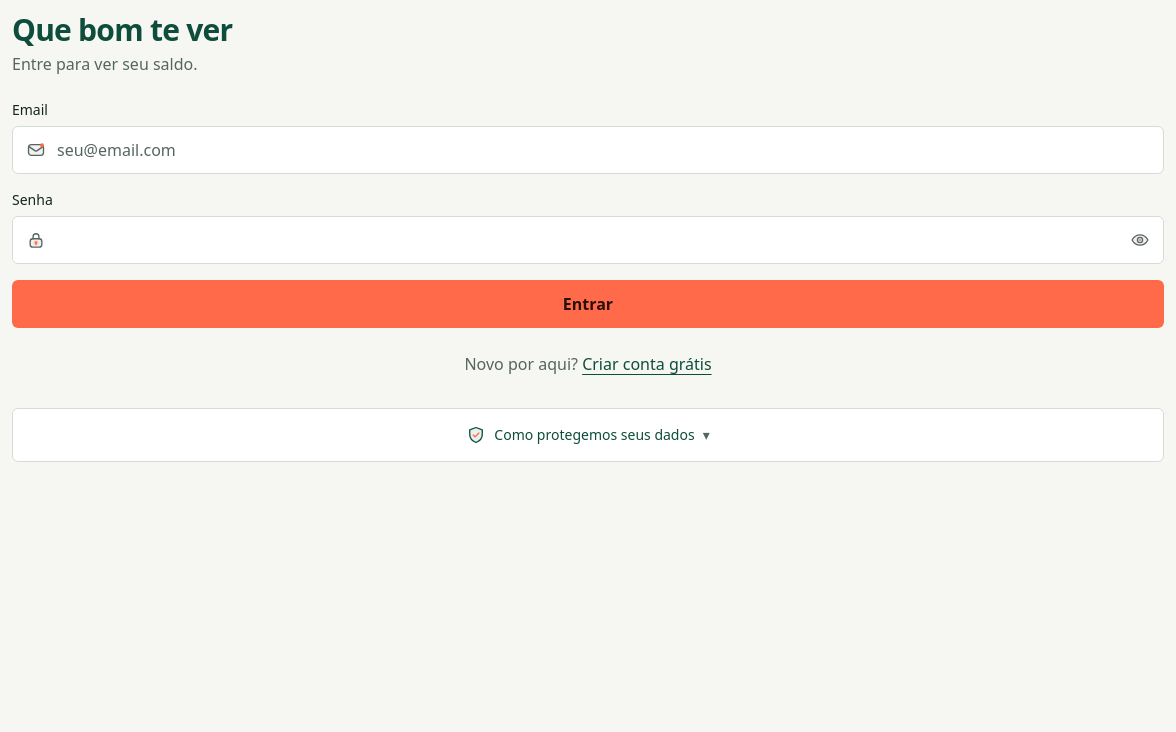
Test: login em duas etapas › desafio vencido (401 sem ser código errado) volta para a senha
The width and height of the screenshot is (1176, 732).
Step 1. Type "ana@exemplo.com" into the field labelled "Email" → (588, 150), box [12,126,1164,174]
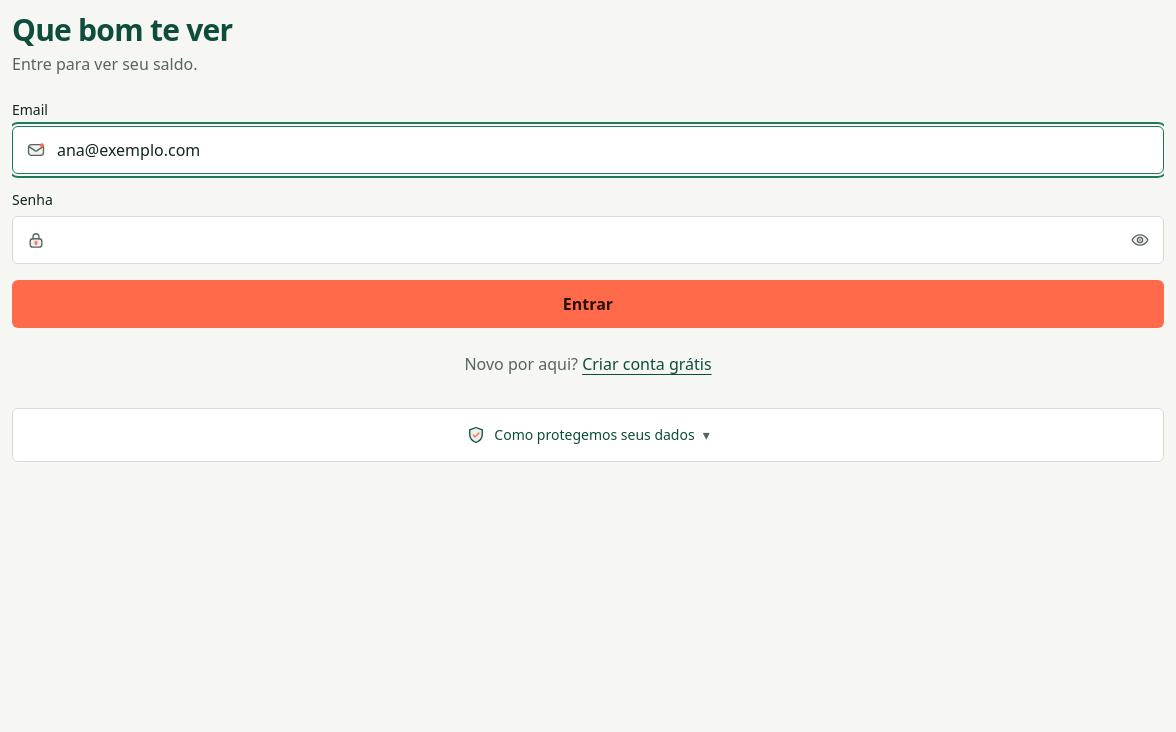
Step 2. Type "cavalo-azul-77" into the password field labelled "Senha" → (588, 240), box [12,216,1164,264]
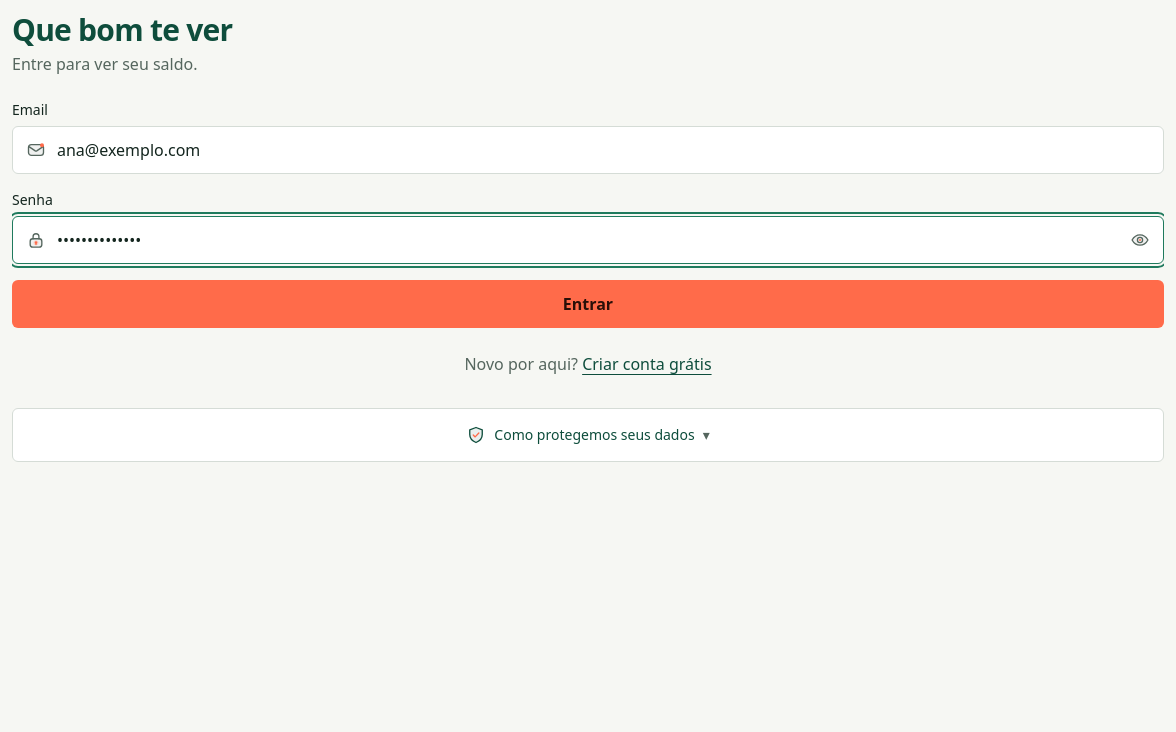
Step 3. Click the button "Entrar" → click(588, 304), box [12,280,1164,328]
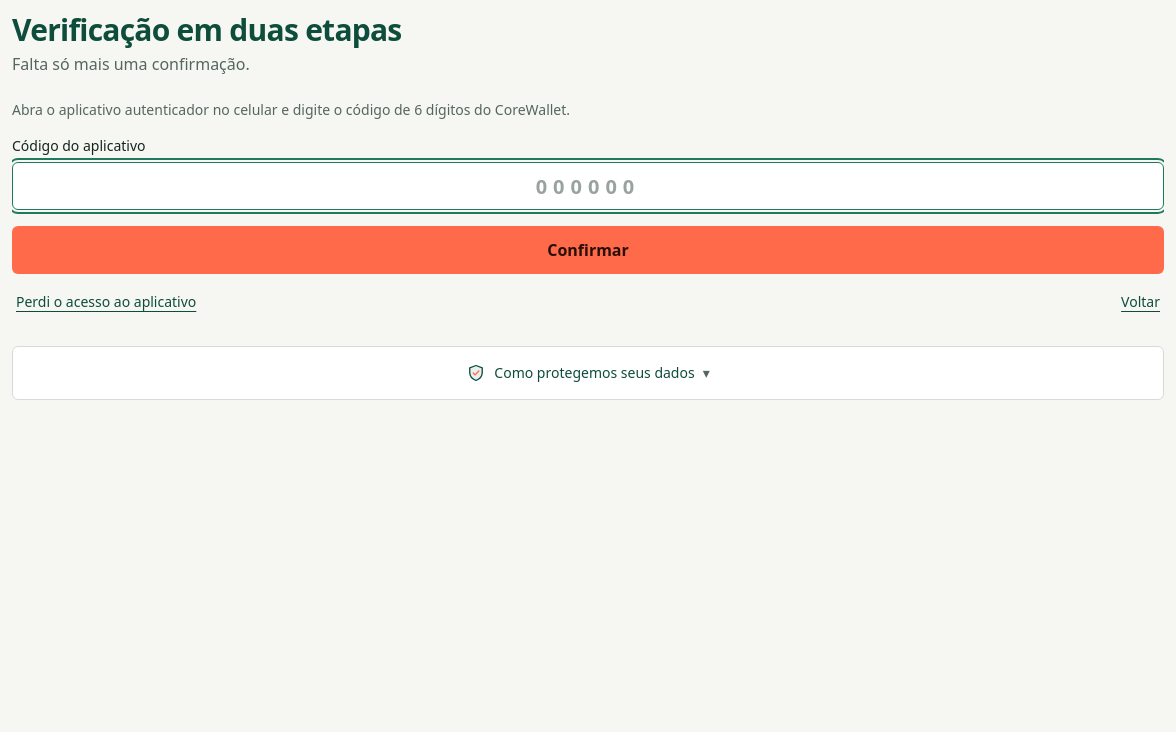
Step 4. Type "123456" into the field labelled "Código do aplicativo" → (588, 186), box [12,162,1164,210]
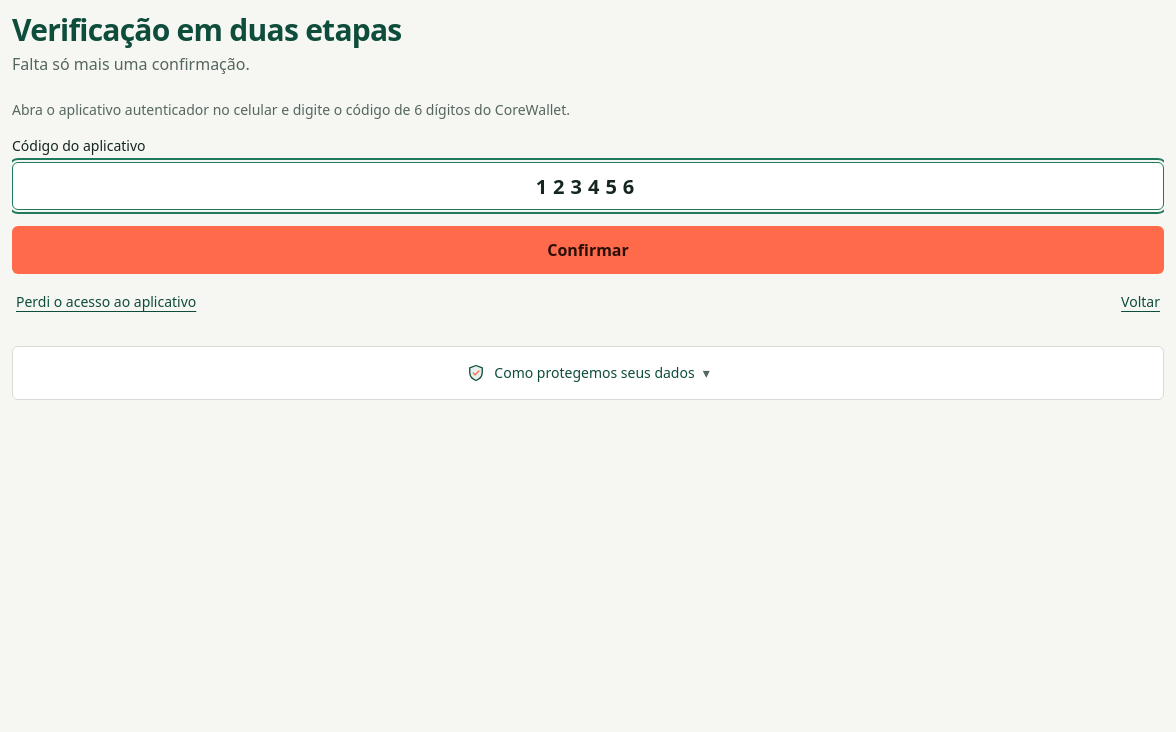
Step 5. Click the button "Confirmar" → click(588, 250), box [12,226,1164,274]
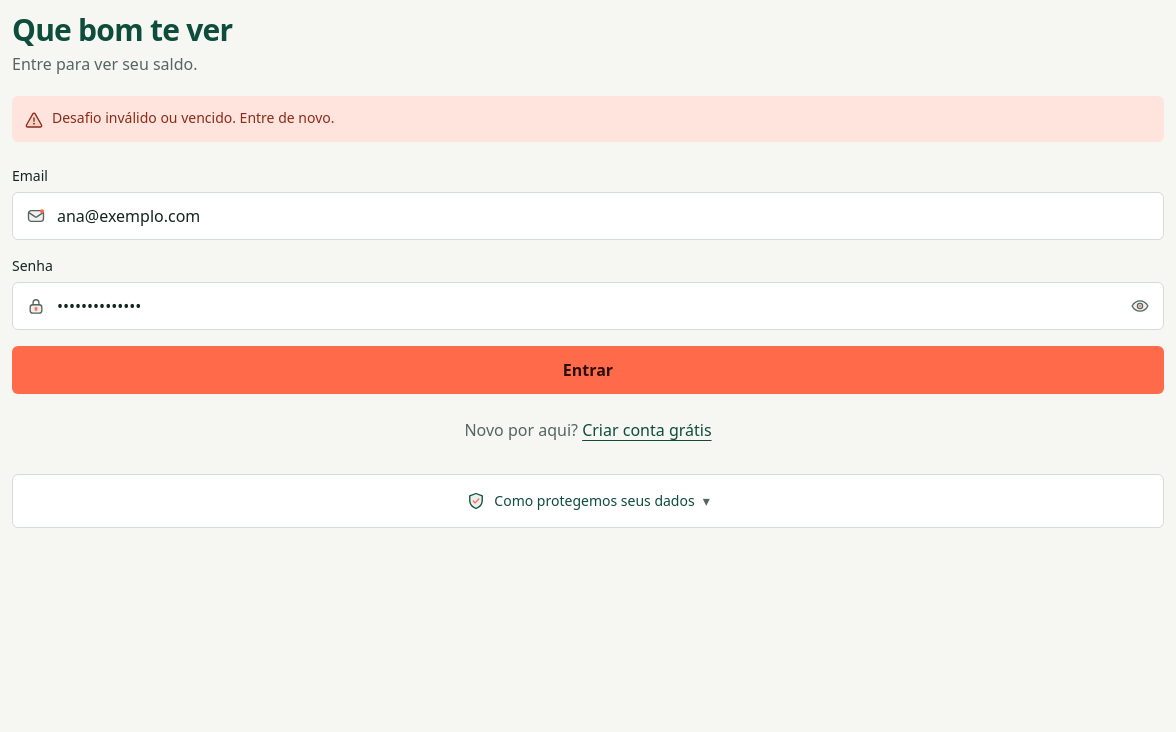
Check: the text "Desafio inválido ou vencido. Entre de novo." is shown, box [52,108,334,128]
Check: the password field labelled "Senha" is shown, box [12,282,1164,330]
